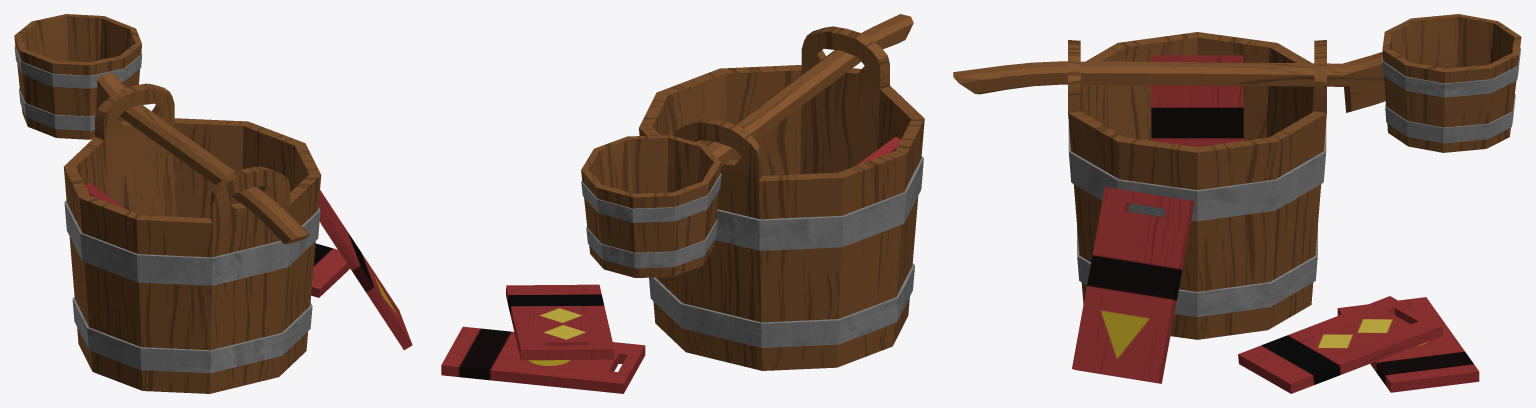
The model's file is BathTokensFBX.fbx.
The picture shows the model from 3 angles, left to right: view 1: azimuth 30°, elevation 25°; view 2: azimuth 150°, elevation 25°; view 3: azimuth 270°, elevation 25°; orthographic projection. The views are drawn at different scales.
Parts seen in each view (by area): view 1: Bucket, polySurface4, Band1, Band2, LadleHandle, Token2, polySurface6, Token3, polySurface5; view 2: Bucket, polySurface4, Token4, Token3, Band2, Band1, LadleHandle, polySurface5, polySurface6; view 3: Bucket, Token2, polySurface4, LadleHandle, Token3, Band1, Token1, Token4, Band2, polySurface5, polySurface6.
Part boxes in pixels (box(x1,y1,x2,y2)): Bucket: box(63, 83, 321, 393); polySurface4: box(14, 14, 141, 139); Band1: box(64, 200, 320, 285); Band2: box(72, 297, 312, 373); LadleHandle: box(96, 73, 310, 244); Token2: box(318, 190, 412, 350); polySurface6: box(14, 46, 142, 88); Token3: box(311, 243, 349, 297); polySurface5: box(19, 88, 95, 130); Bucket: box(639, 26, 924, 370); polySurface4: box(581, 135, 721, 277); Token4: box(441, 326, 645, 393); Token3: box(506, 284, 614, 360); Band2: box(649, 263, 914, 347); Band1: box(715, 156, 923, 250); LadleHandle: box(707, 14, 913, 166); polySurface5: box(586, 219, 717, 268); polySurface6: box(581, 173, 721, 222); Bucket: box(1068, 32, 1326, 339); Token2: box(1072, 187, 1194, 383); polySurface4: box(1382, 14, 1521, 152); LadleHandle: box(953, 52, 1385, 112); Token3: box(1238, 296, 1443, 393); Band1: box(1068, 123, 1326, 221); Token1: box(1151, 55, 1243, 146); Token4: box(1337, 297, 1479, 392); Band2: box(1077, 226, 1317, 316); polySurface5: box(1385, 94, 1515, 143); polySurface6: box(1382, 48, 1520, 97).
Bounding box in the file's own units: 14.77 × 9.93 × 20.77.
